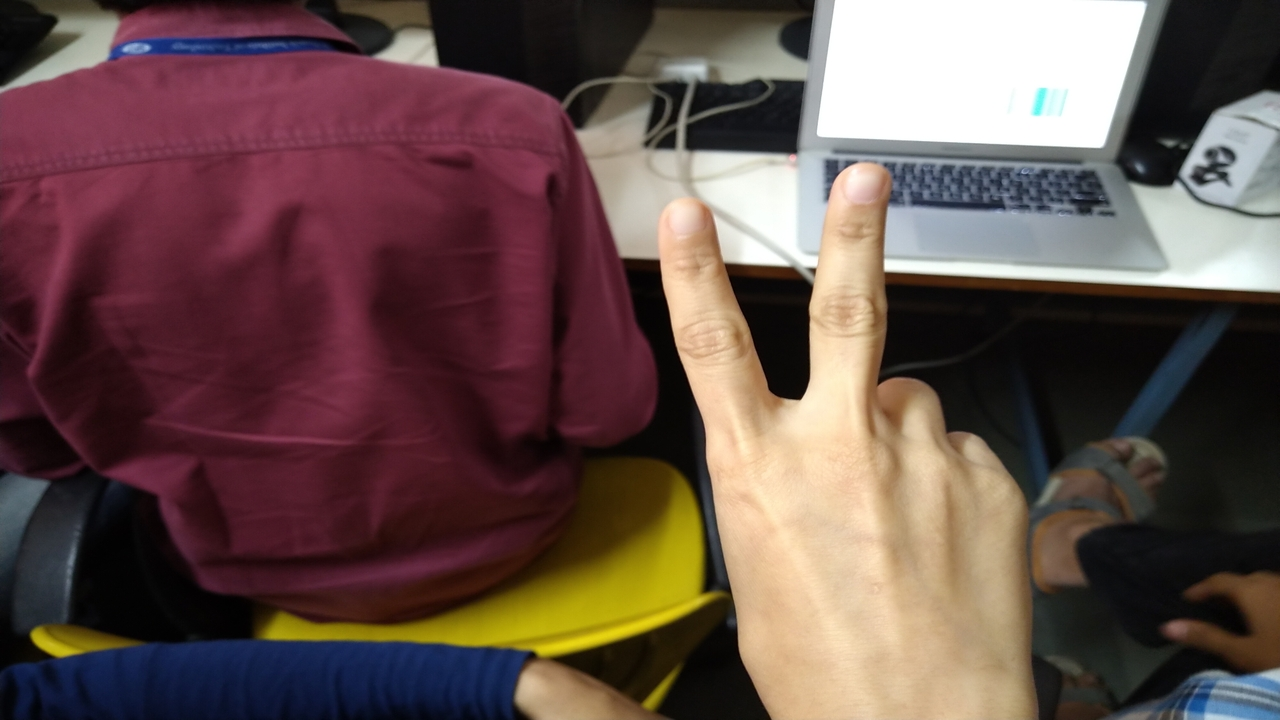fingertip: (832, 154, 900, 214), (654, 190, 722, 248)
